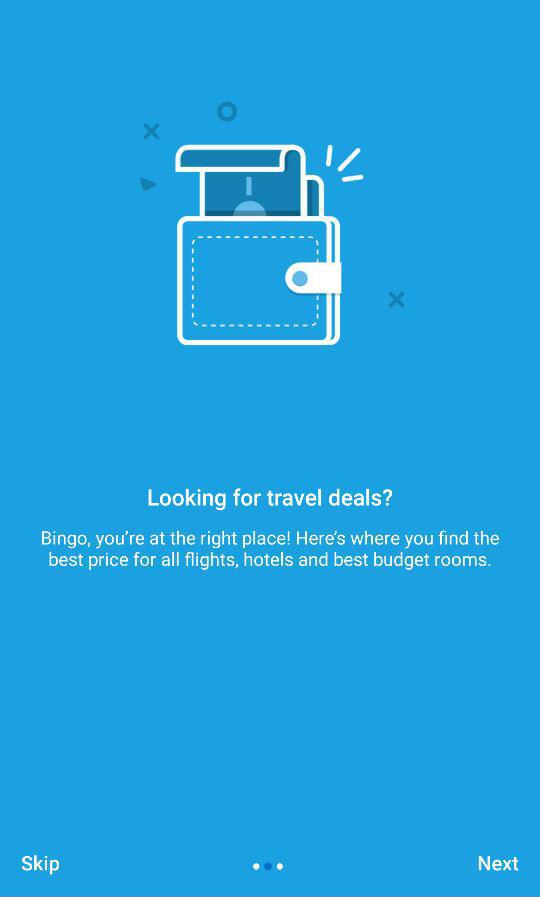Image: (140, 101, 406, 347)
PageIndicator: (252, 862, 286, 872)
Text: (41, 530, 500, 572), (147, 488, 394, 512), (22, 854, 61, 876), (478, 855, 520, 872)
